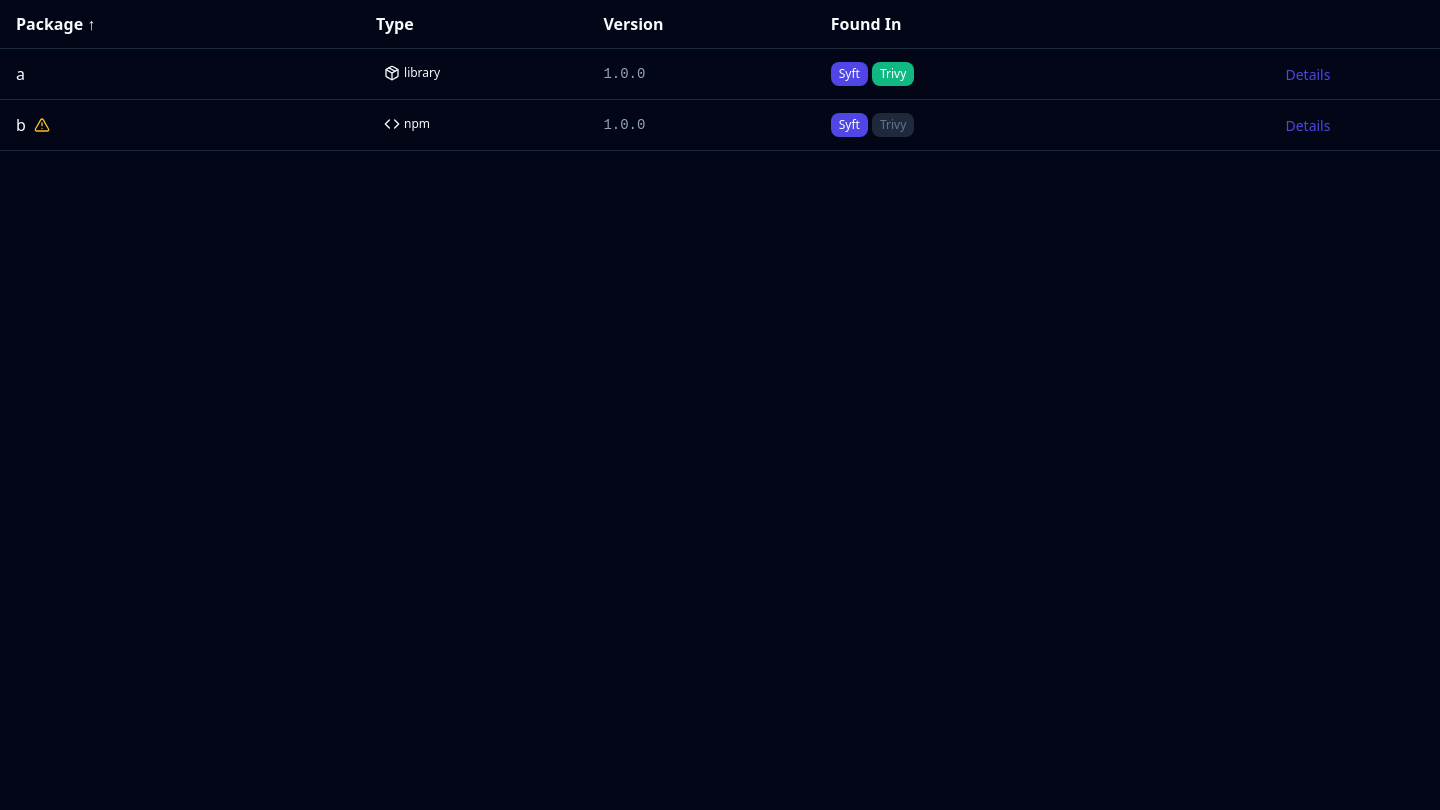
Test: filters and expands details
The image size is (1440, 810).
Expected: the text "a" is shown, [16,62,25,86]
Expected: the text "b" is shown, [16,113,26,137]
Click the button "Details" in the row of "library": (1308,75) [1286,65,1330,85]
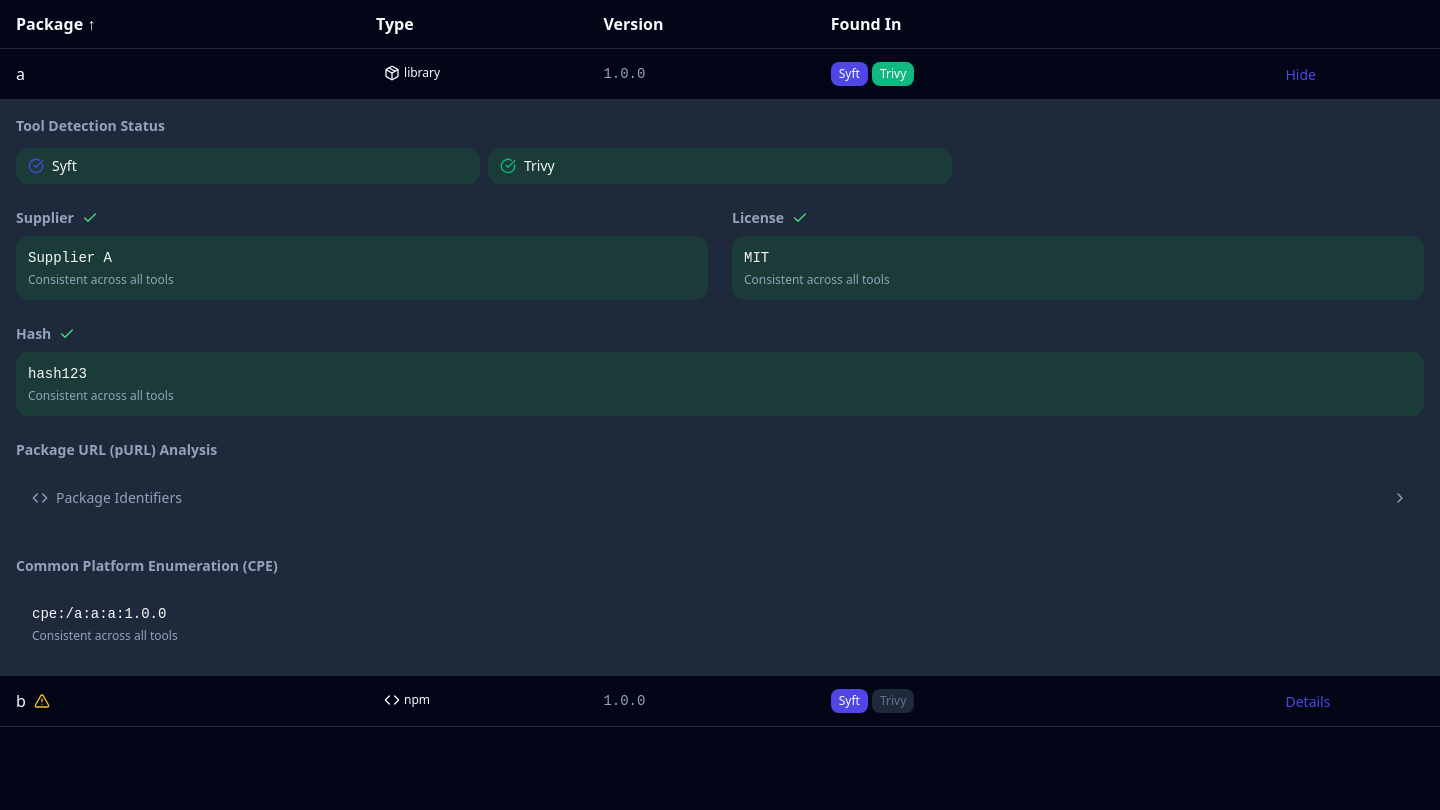
Now the heading "Tool Detection Status" is shown, box [16,116,165,135]
